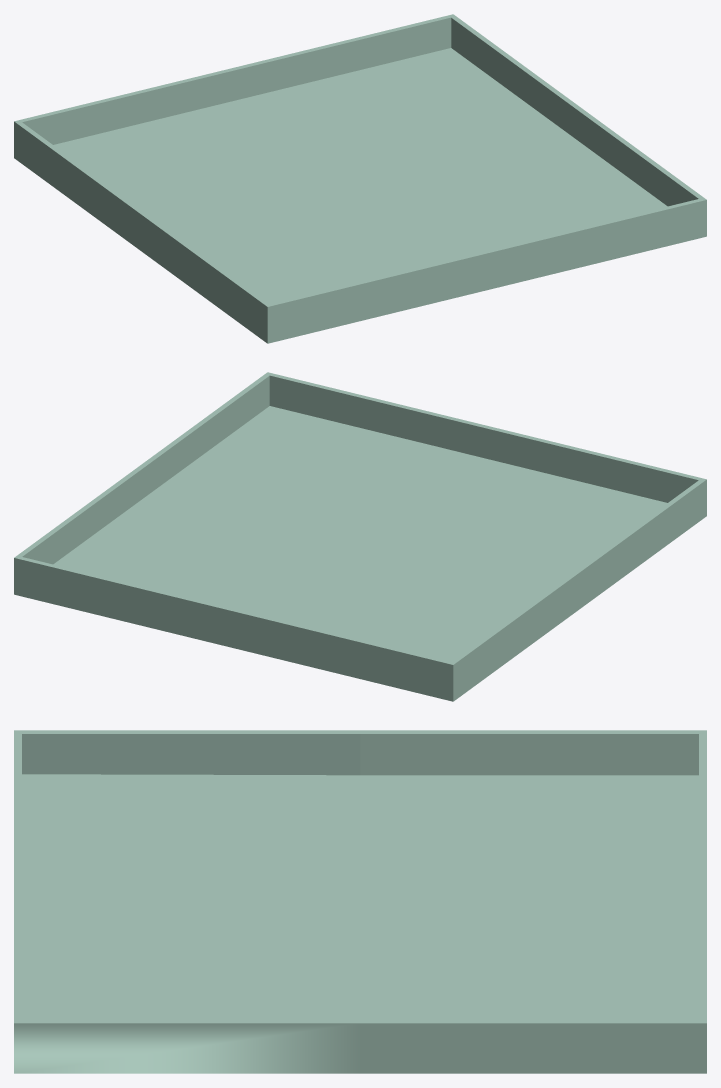
Rendered from probetacuadrada.dae.
The picture shows the model from 3 angles, top to bottom: view 1: azimuth 30°, elevation 25°; view 2: azimuth 150°, elevation 25°; view 3: azimuth 270°, elevation 25°; orthographic projection. The views are drawn at different scales.
Parts seen in each view (by area): view 1: probetacuadrada; view 2: probetacuadrada; view 3: probetacuadrada.
Boxes of the visible parts, box(x1,y1,x2,y2) form: probetacuadrada: box(14, 14, 706, 343); probetacuadrada: box(14, 372, 706, 701); probetacuadrada: box(14, 730, 706, 1073).
Bounding box in the file's own units: 600 × 48 × 600.
1 material, 1 textured.
